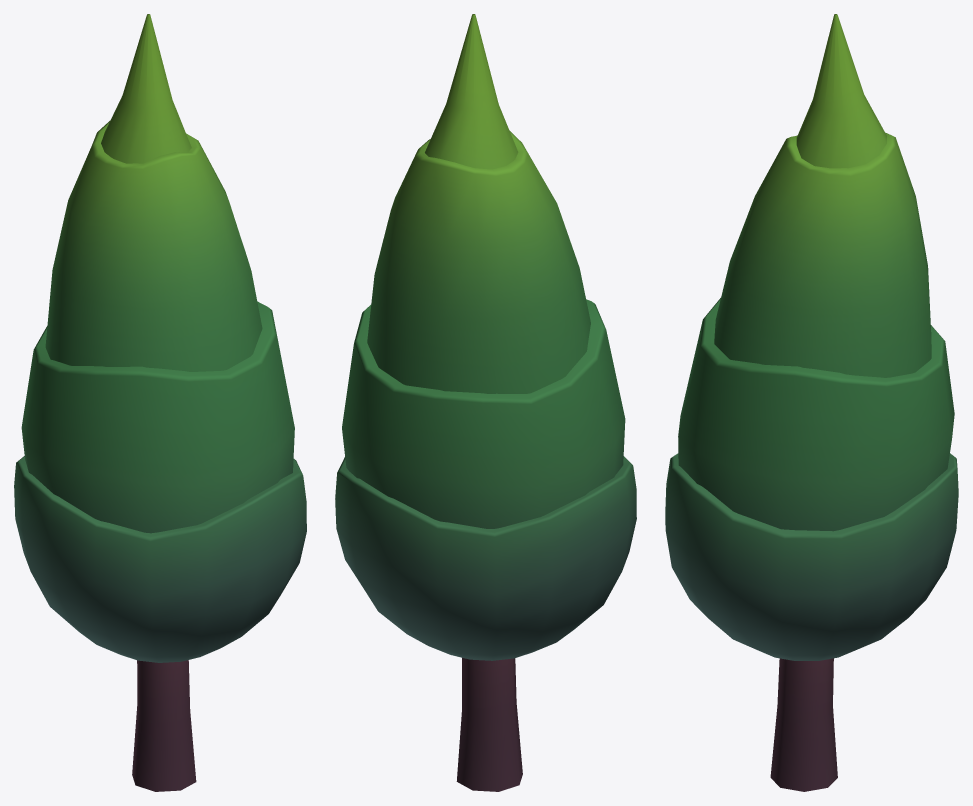
The model's file is Tree_001.fbx.
3 views of the same model, side by side, from view 1: azimuth 30°, elevation 25°; view 2: azimuth 150°, elevation 25°; view 3: azimuth 270°, elevation 25° (orthographic). The views are drawn at different scales.
Visible parts, largest first — view 1: Tree.001; view 2: Tree.001; view 3: Tree.001.
Part boxes in pixels (<box>): Tree.001: <box>14,14,306,791</box>; Tree.001: <box>335,14,636,791</box>; Tree.001: <box>665,14,958,791</box>.
Bounding box in the file's own units: 1.98 × 5.71 × 1.99.
